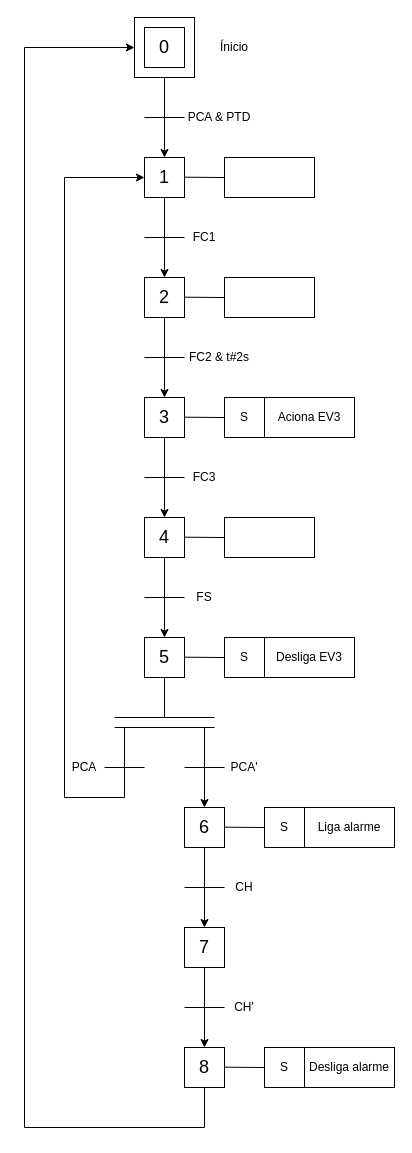
This 412x1153 diagram has some shape labels left out. Each missing label, with the box of its shape:
Aciona EV1: (224, 156, 314, 198)
Aciona EV2: (224, 276, 314, 318)
Aciona EV4: (224, 516, 314, 558)
